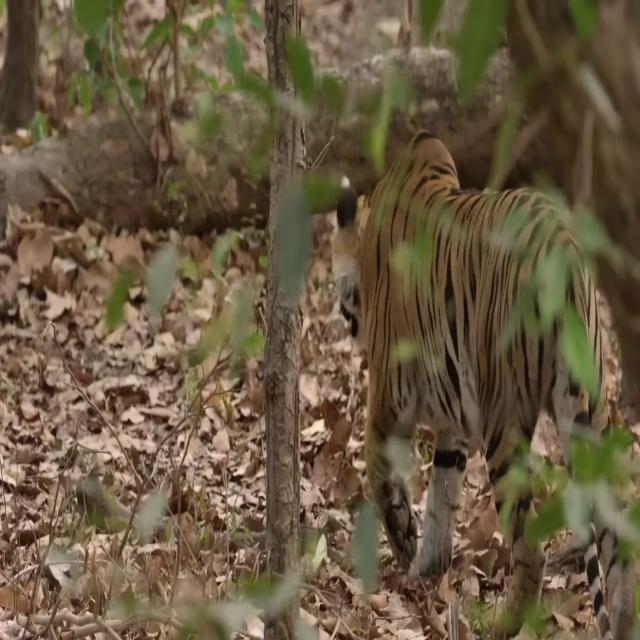tiger: (329, 126, 640, 639)
